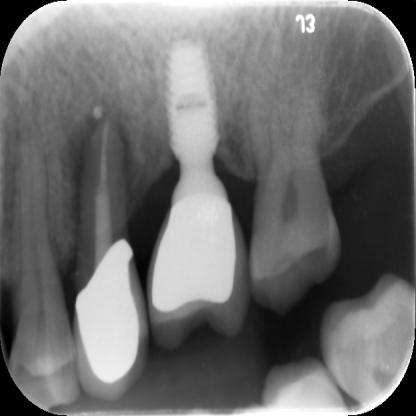Bicon: (165, 37, 223, 162)
